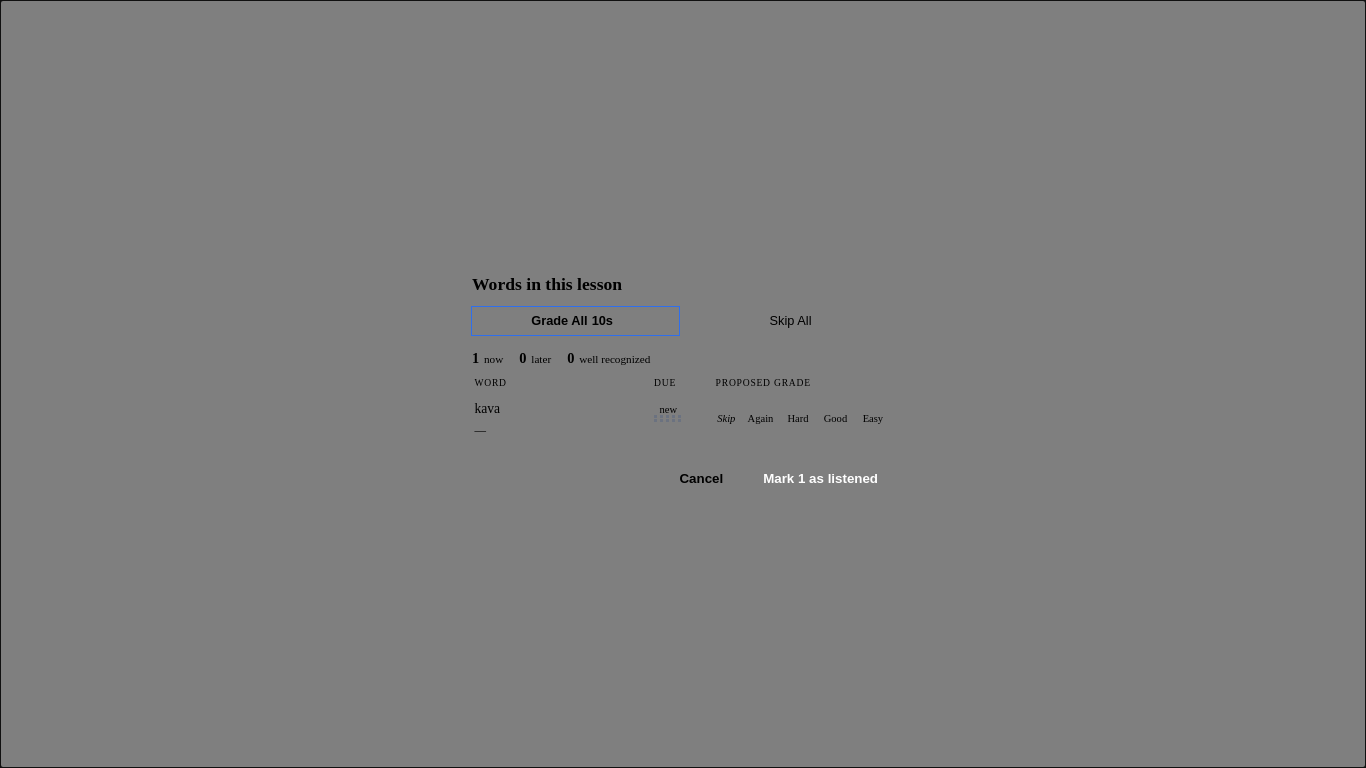
Scenario: ListenPreviewModal › commit shows non-Error stringified
Click the button "Mark 1 as listened".
click(821, 479)  # box [747,463,894,494]
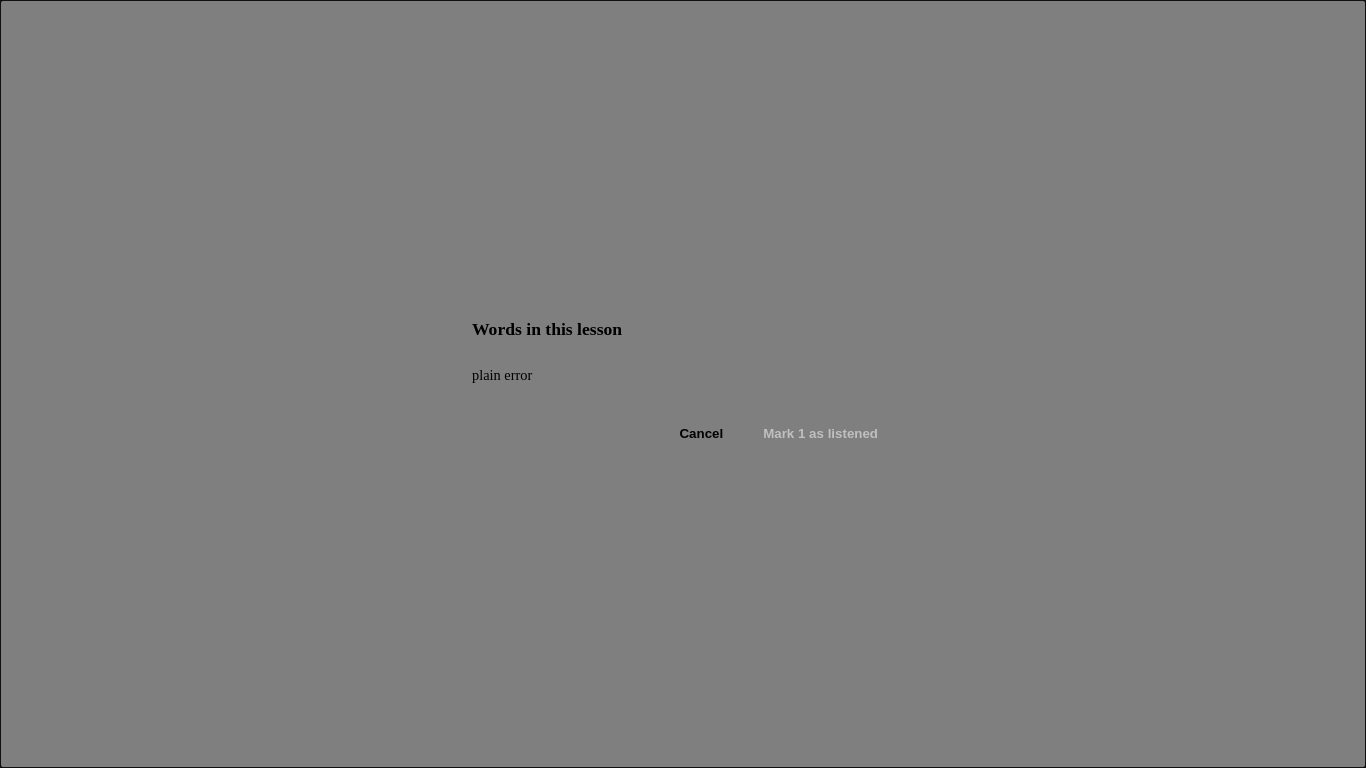
Check: the text "plain error" is shown, box [472,366,532,382]
